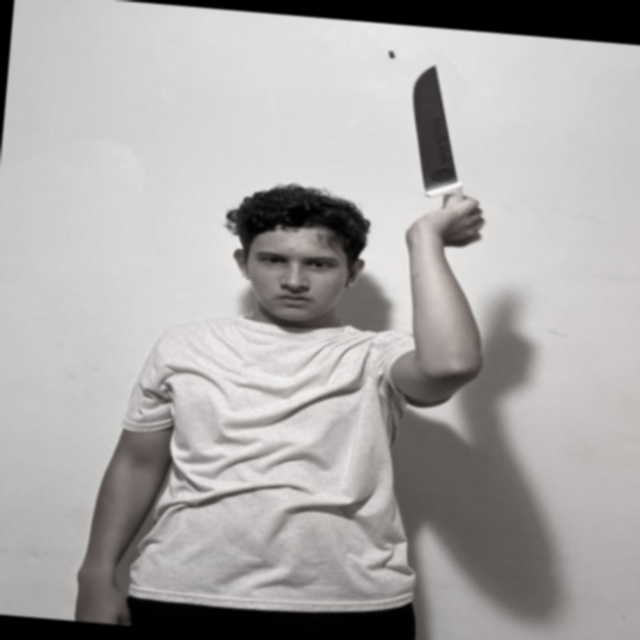Sharp-Object: (402, 64, 465, 185)
